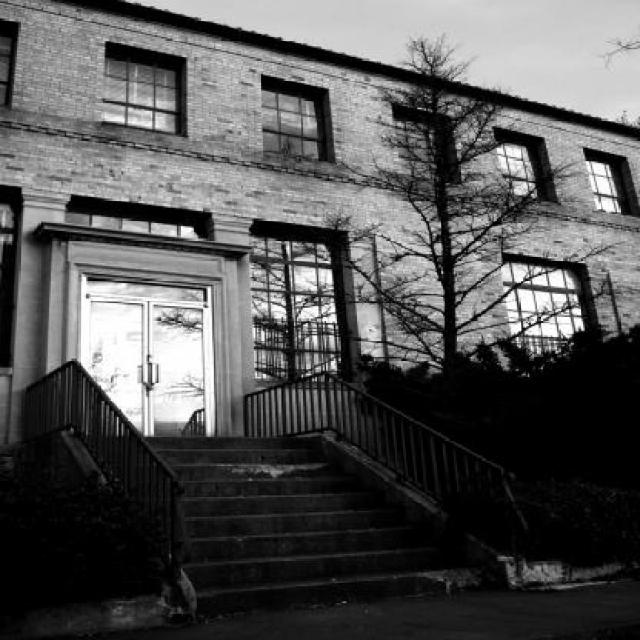stair: (80, 436, 508, 622)
